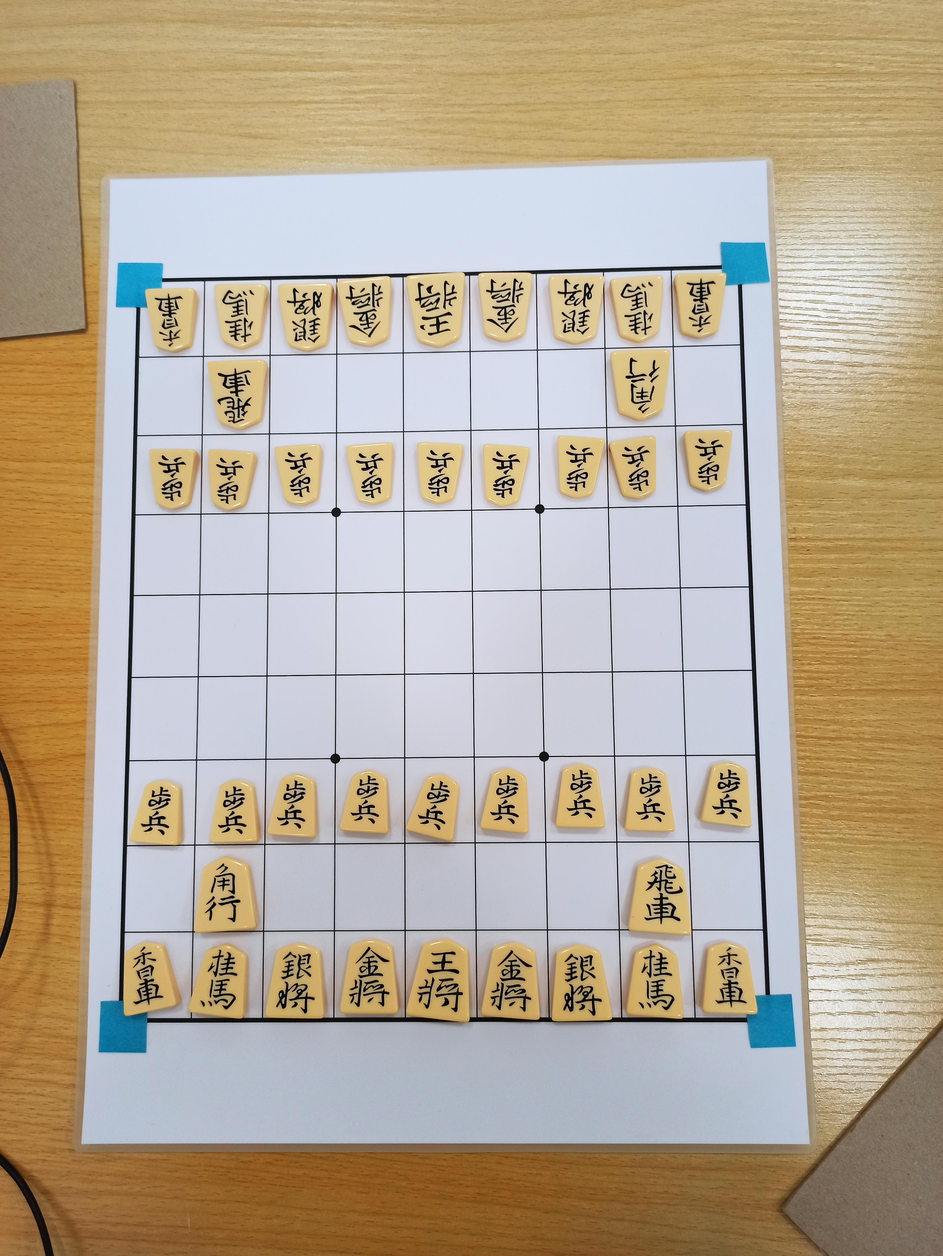board: (120, 267, 768, 1020)
